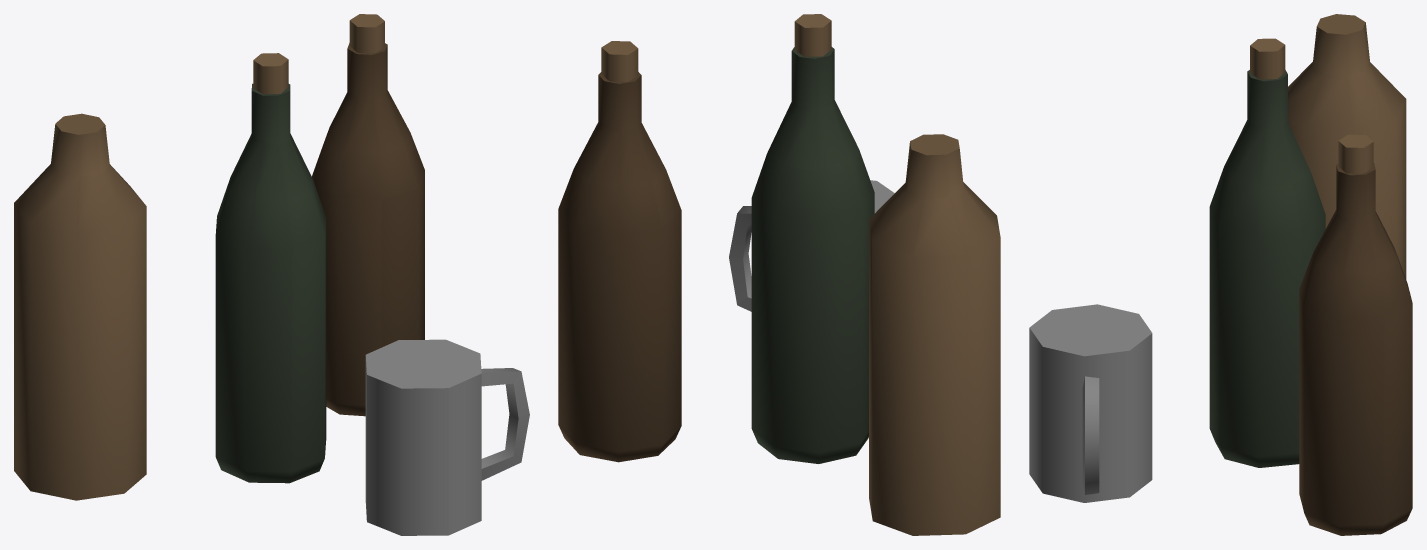
Rendered from botellas.glb.
3 renders of one model, left to right at view 1: azimuth 30°, elevation 25°; view 2: azimuth 150°, elevation 25°; view 3: azimuth 270°, elevation 25°, orthographic. The views are drawn at different scales.
Visible parts, largest first — view 1: Botellas; view 2: Botellas; view 3: Botellas.
Boxes of the visible parts, x1,y1,x2,y2 form: Botellas: [14, 14, 529, 535]; Botellas: [558, 14, 1000, 535]; Botellas: [1029, 14, 1412, 535].
Bounding box in the file's own units: 0.3125 × 0.3004 × 0.2602.
